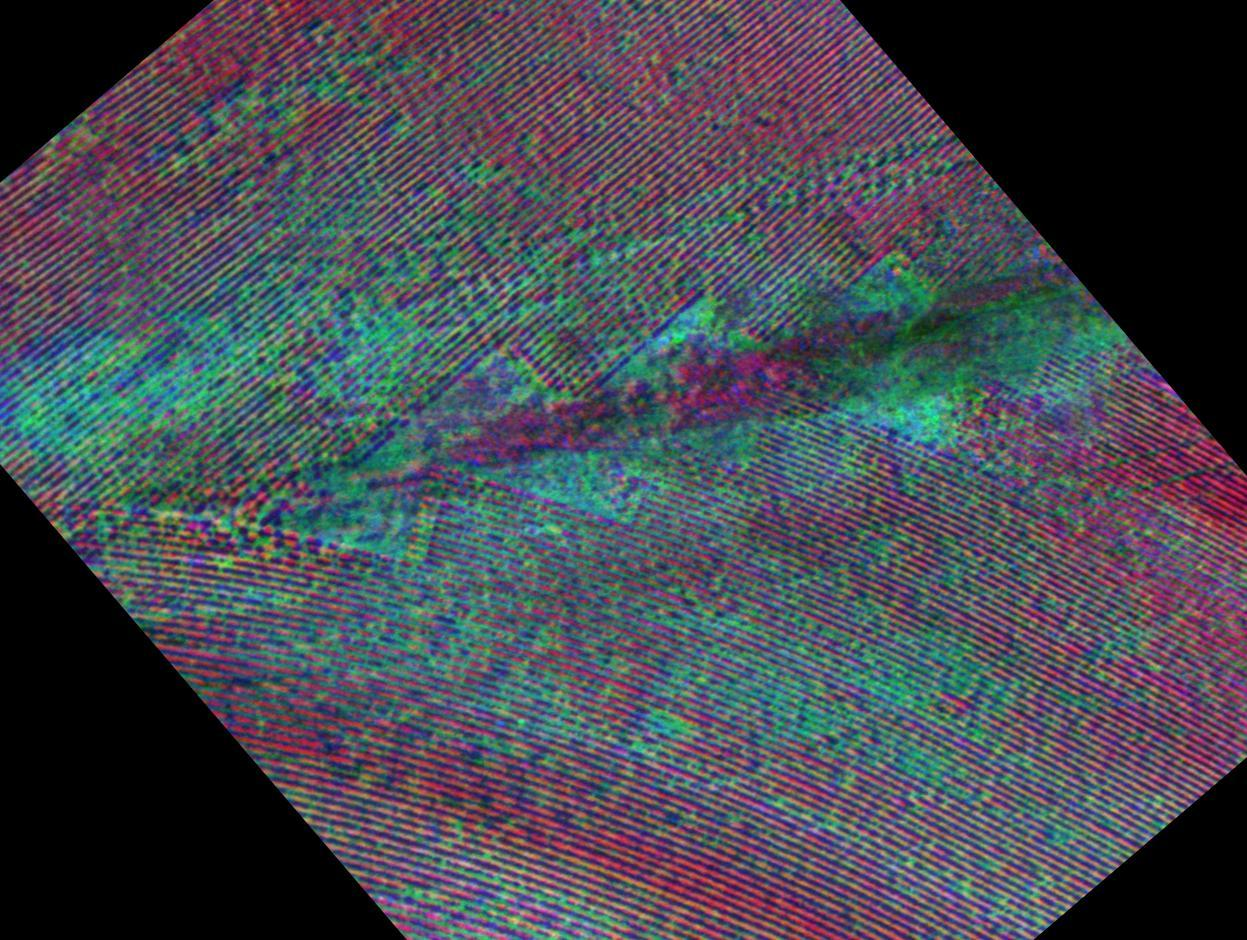dc: (16, 348, 123, 455), (208, 303, 295, 403), (856, 653, 929, 739), (888, 368, 955, 446)
